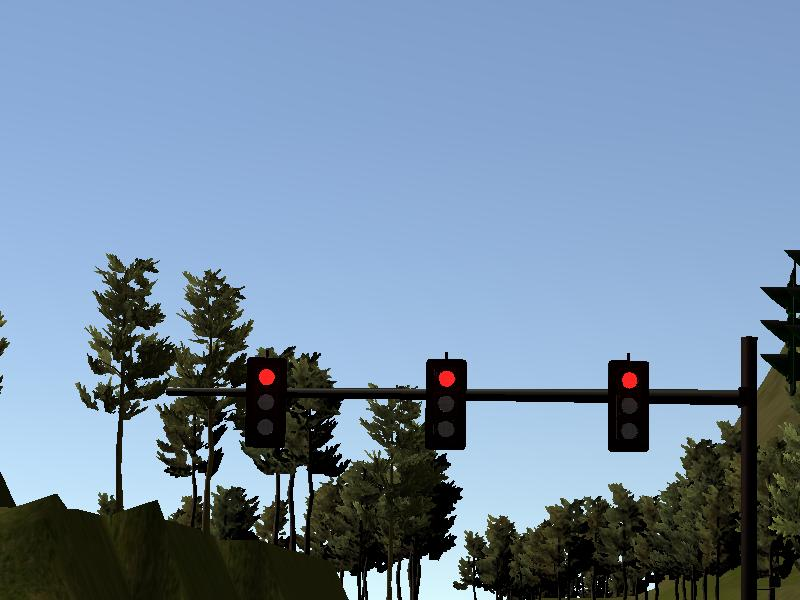red: (607, 359, 651, 453), (425, 358, 467, 448), (246, 354, 284, 447)
